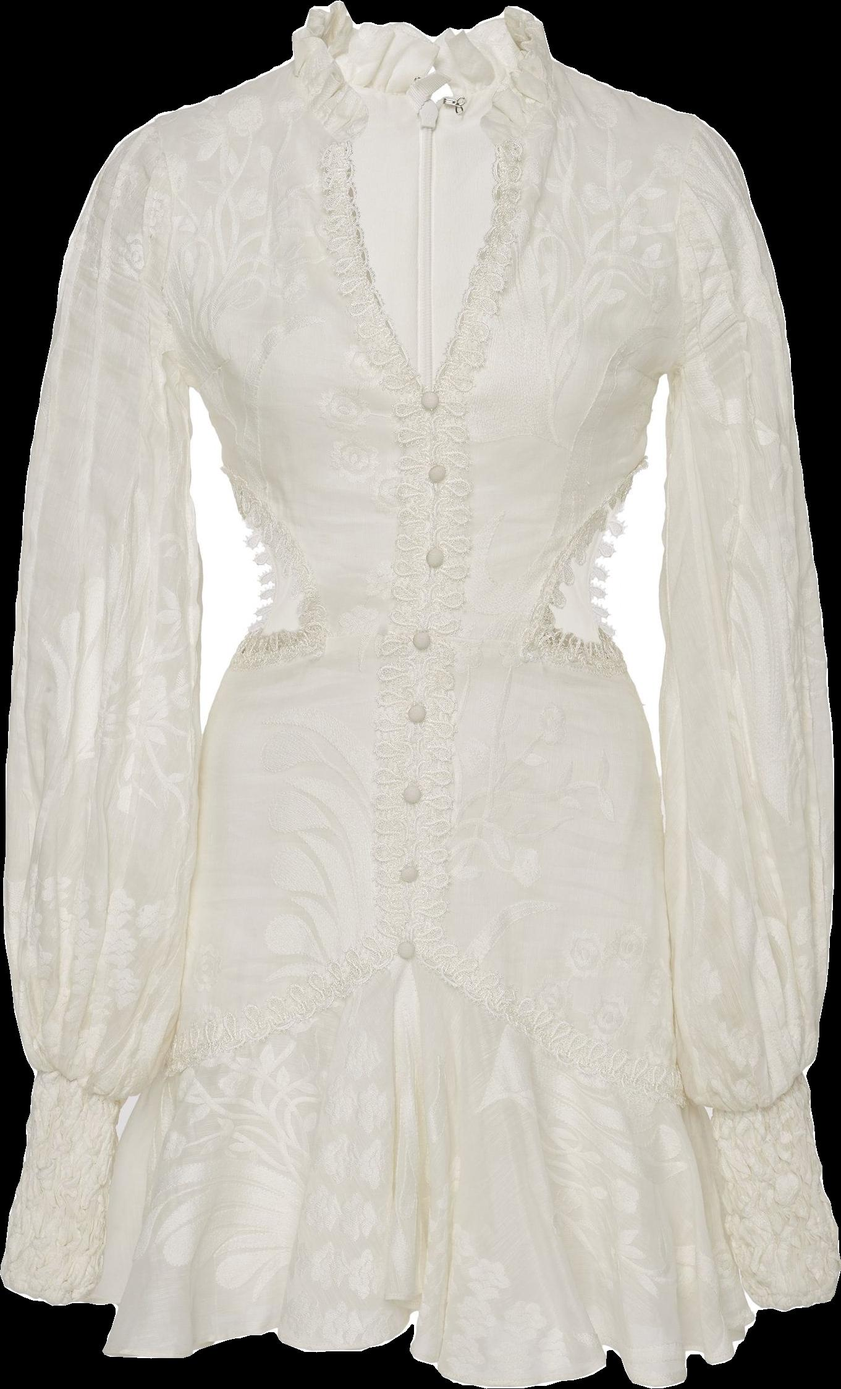Bodice: (130, 1, 717, 666)
Hemline: (0, 1263, 811, 1388)
Neckline: (304, 7, 538, 396)
Skirt: (1, 650, 805, 1387)
Sleeve: (0, 131, 210, 1305), (656, 124, 840, 1312)
Sleeveline: (128, 116, 203, 405), (650, 125, 721, 426), (26, 1062, 144, 1119), (706, 1072, 811, 1126)
Waistline: (66, 939, 721, 1128), (226, 640, 626, 674)
